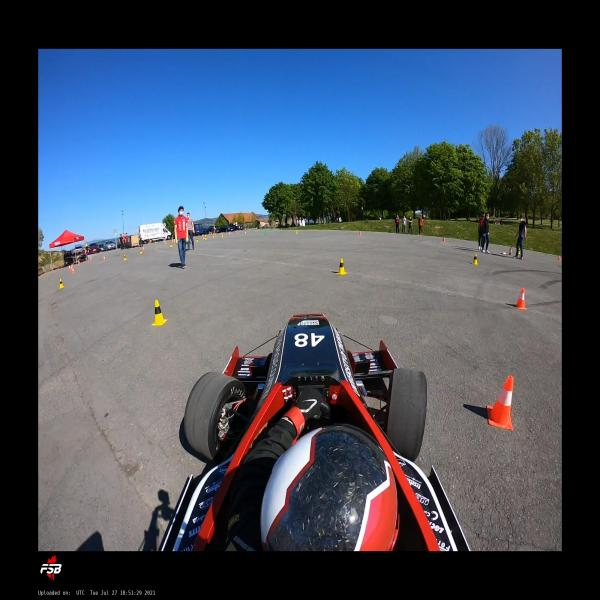orange_cone: (486, 374, 512, 430), (515, 288, 526, 310), (73, 268, 75, 274), (68, 265, 70, 270), (165, 241, 167, 246), (442, 237, 444, 242), (78, 261, 80, 265), (228, 232, 230, 236), (236, 230, 238, 234), (90, 258, 92, 261), (71, 266, 72, 271), (104, 256, 105, 260), (360, 231, 361, 235), (559, 256, 560, 260), (245, 231, 246, 234), (143, 248, 144, 250)
unknown_cone: (252, 230, 254, 234), (265, 231, 267, 234), (281, 228, 282, 230)
yellow_cone: (152, 299, 167, 325), (337, 258, 346, 274), (472, 254, 478, 264), (59, 278, 64, 288), (170, 242, 172, 247), (124, 256, 126, 260), (140, 250, 142, 254), (296, 230, 298, 234), (205, 237, 207, 240), (196, 239, 198, 242), (202, 236, 204, 239), (148, 242, 150, 245), (519, 248, 520, 254), (222, 234, 223, 237), (213, 235, 214, 238), (156, 242, 157, 244)
